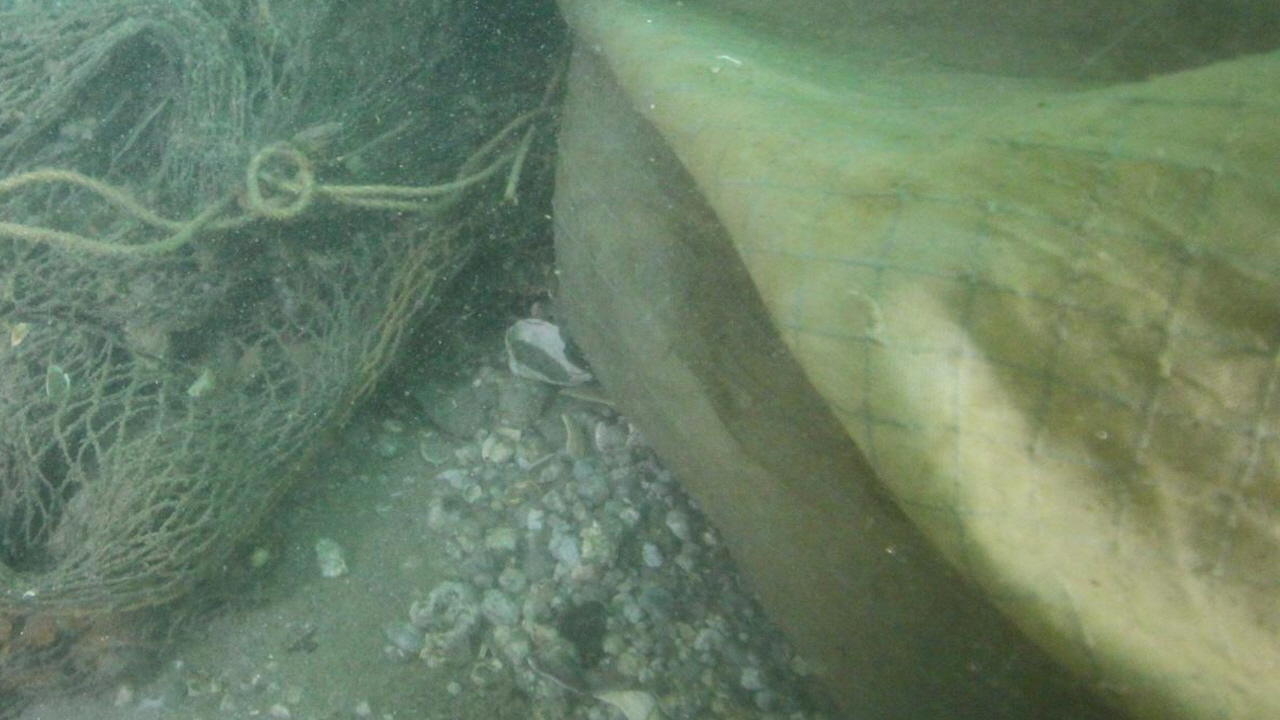fish net: (1, 1, 483, 614)
